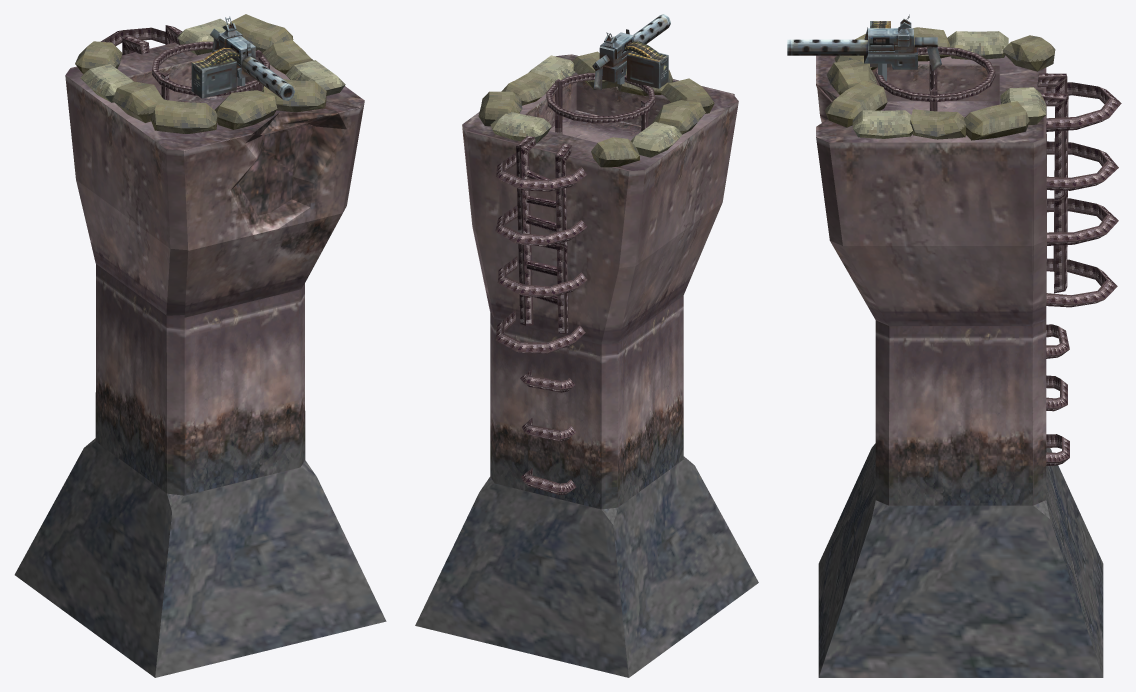
The model's file is C4SMGUNTWH.obj.
The picture shows the model from 3 angles, left to right: view 1: azimuth 30°, elevation 25°; view 2: azimuth 150°, elevation 25°; view 3: azimuth 270°, elevation 25°; orthographic projection. The views are drawn at different scales.
Visible parts, largest first — view 1: Node 0, Node 13, Node 14, Node 12, Node 6, Node 11, Node 10, Node 9; view 2: Node 0, Node 13, Node 9, Node 12, Node 11, Node 6, Node 10, Node 14; view 3: Node 0, Node 14, Node 13, Node 9, Node 12, Node 10, Node 6, Node 11.
Boxes of the visible parts, <box> form: Node 0: <box>14,264,386,677</box>; Node 13: <box>65,42,358,315</box>; Node 14: <box>183,60,364,317</box>; Node 12: <box>150,41,326,133</box>; Node 6: <box>191,16,294,100</box>; Node 11: <box>75,41,164,122</box>; Node 10: <box>177,14,313,74</box>; Node 9: <box>101,25,182,55</box>; Node 0: <box>415,295,758,677</box>; Node 13: <box>462,55,738,344</box>; Node 9: <box>495,136,587,334</box>; Node 12: <box>546,51,714,133</box>; Node 11: <box>591,100,705,167</box>; Node 6: <box>592,14,670,90</box>; Node 10: <box>478,71,551,143</box>; Node 14: <box>462,54,734,311</box>; Node 0: <box>818,258,1117,677</box>; Node 14: <box>816,84,1033,325</box>; Node 13: <box>816,55,1046,324</box>; Node 9: <box>1037,73,1121,293</box>; Node 12: <box>825,33,995,127</box>; Node 10: <box>910,87,1046,140</box>; Node 6: <box>787,14,941,70</box>; Node 11: <box>913,27,1055,71</box>.
Bounding box in the file's own units: 4.12 × 10.2 × 5.1.
Materials: 19 (19 with a texture image).
